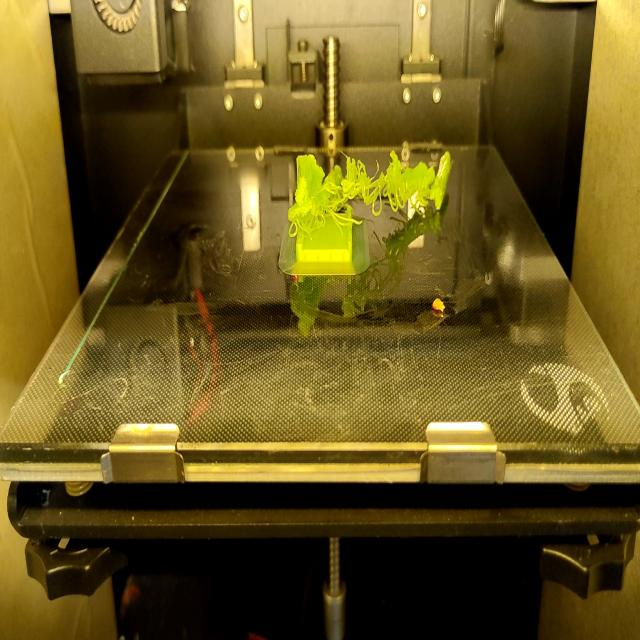spaghetti: (285, 144, 427, 230)
